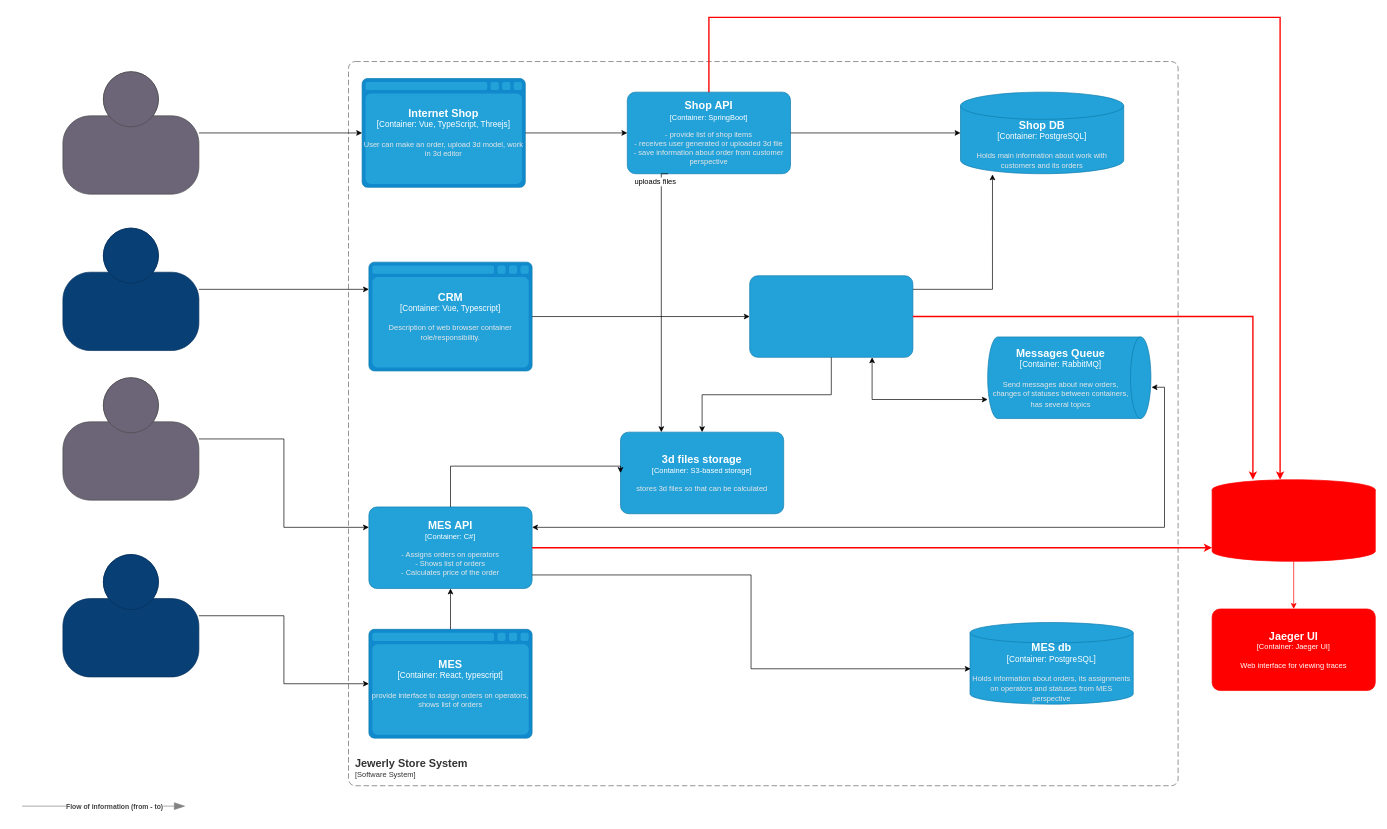
The diagram is 1387 pixels wide and 829 high, and some of its shapes have lost their labels. Each missing label, with the centre of its shape:
API user [Person] Description of external person.: the point at 130,438
CRM API [Container: SpringBoot] Description of container role/responsibility.: the point at 831,316
Customer [Person] Description of external person.: the point at 130,132
Jaeger [Container: Jaeger] Stores tracing: the point at 1293,520
Operator [Person] Takes order in work, manufactures jewerly: the point at 130,615
Seller [Person] Operates with order, confirms manufacturing for the user: the point at 130,289
